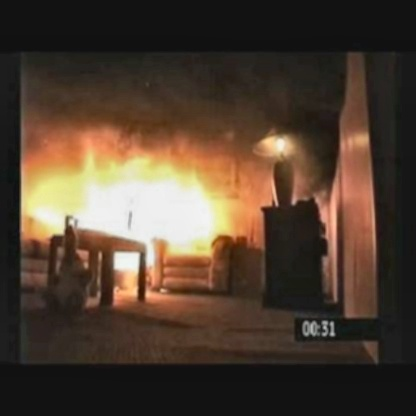fire: (17, 90, 263, 280)
